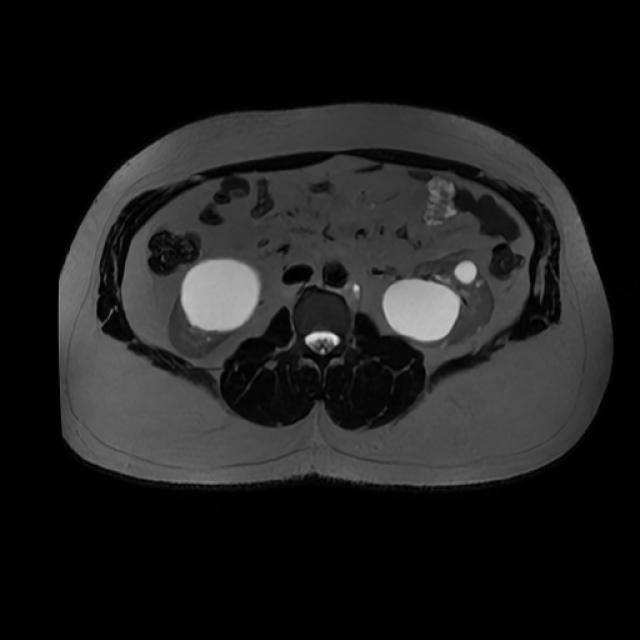sag: (166, 258, 262, 360)
sol: (380, 258, 493, 349)
